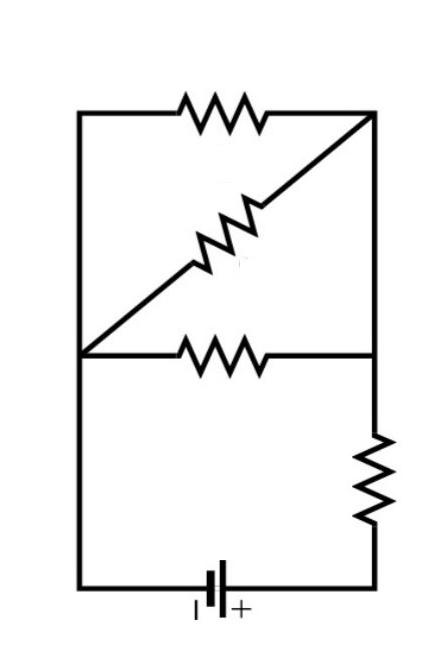resistor: (160, 167, 286, 295), (160, 314, 293, 403), (146, 68, 284, 146), (335, 415, 408, 562)
